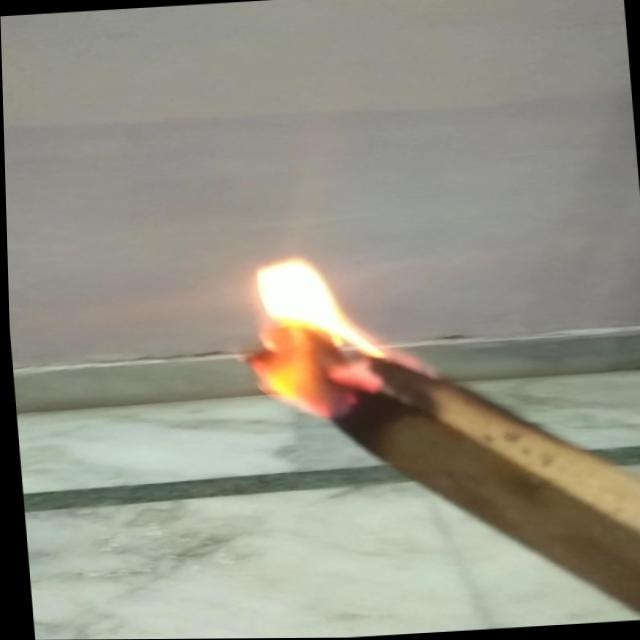fire: (226, 243, 410, 432)
